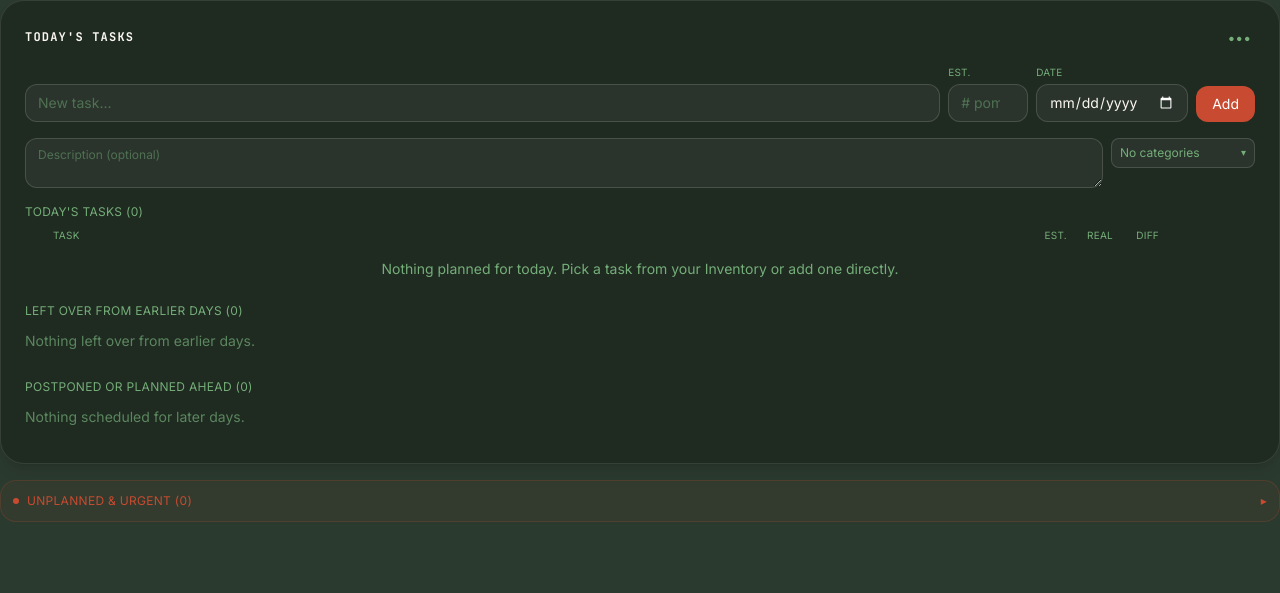
Scenario: TodoToday layout › keeps Unplanned & Urgent as its own collapsible card, closed while empty
Click the button "Unplanned & Urgent (0) ▸" at coordinates (99, 500), box left=13, top=493, right=1267, bottom=509
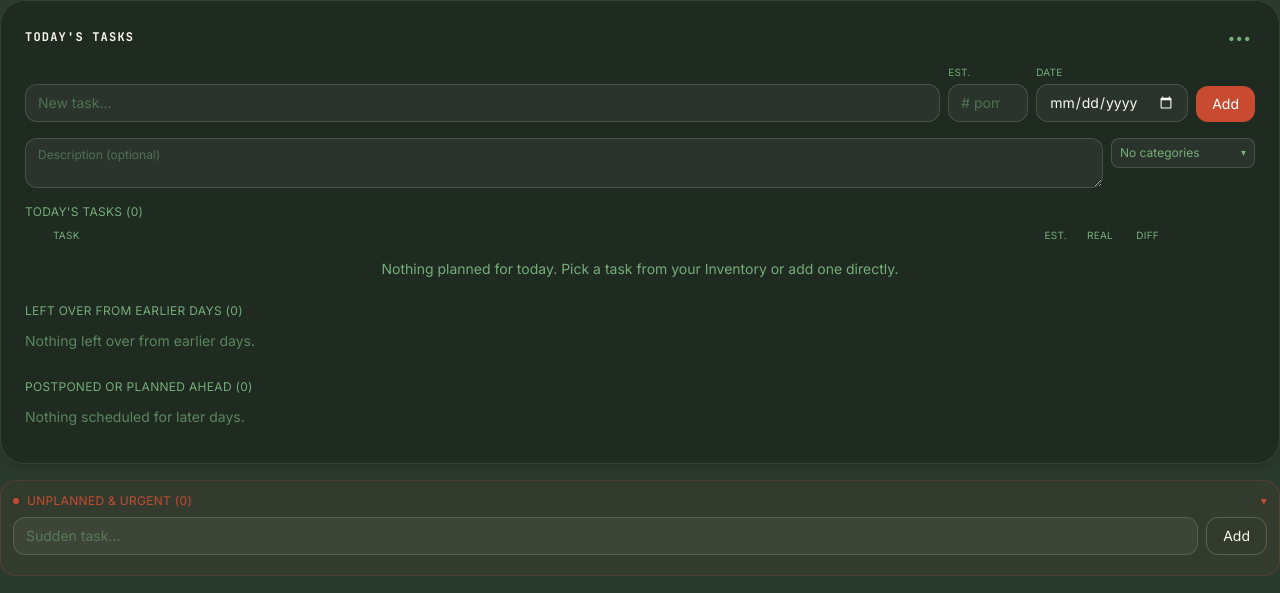
Check: the button "Unplanned & Urgent (0) ▾" is expanded, box left=13, top=493, right=1267, bottom=509
